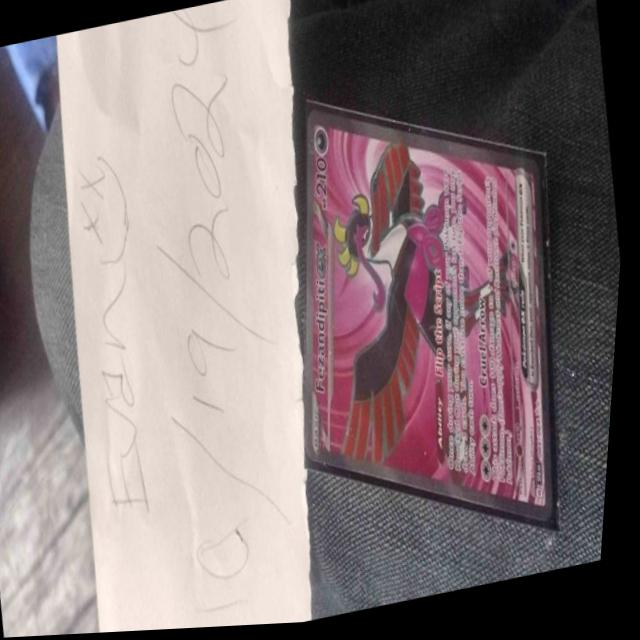card: (308, 108, 562, 530)
